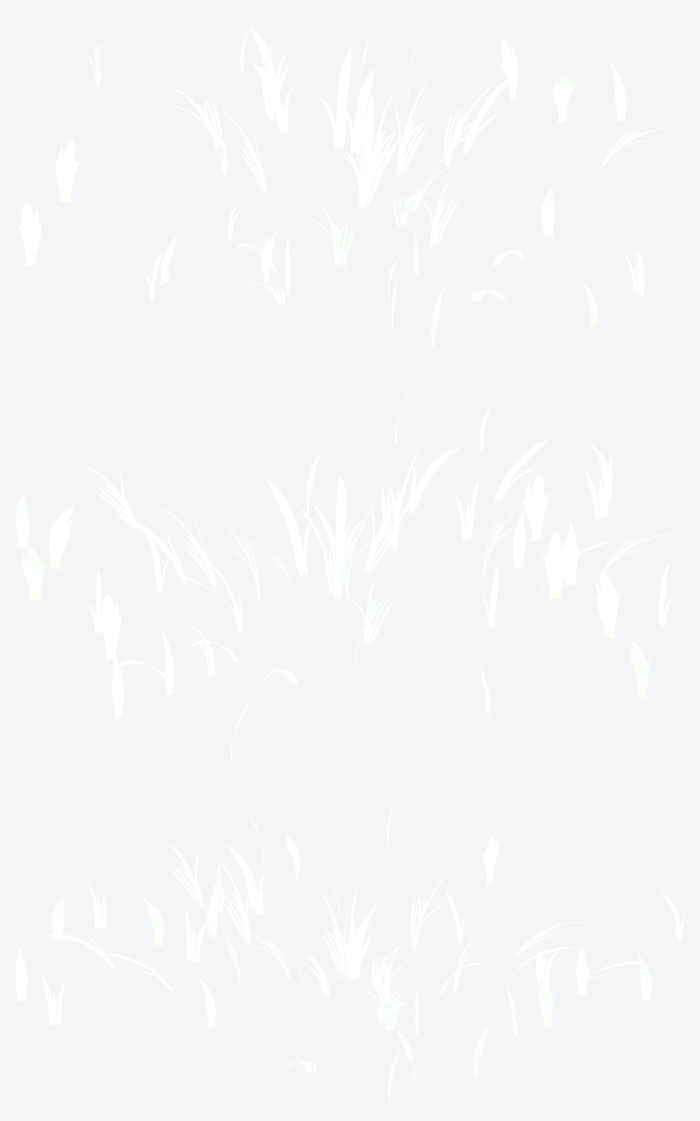
3 views of the same model, one above another, from view 1: azimuth 30°, elevation 25°; view 2: azimuth 150°, elevation 25°; view 3: azimuth 270°, elevation 25° (orthographic). The views are drawn at different scales.
Visible parts, largest first — view 1: SM_SwampSedge_04_LOD0; view 2: SM_SwampSedge_04_LOD0; view 3: SM_SwampSedge_04_LOD0.
Boxes of the visible parts, x1,y1,x2,y2 form: SM_SwampSedge_04_LOD0: (16, 18, 677, 349); SM_SwampSedge_04_LOD0: (15, 385, 676, 759); SM_SwampSedge_04_LOD0: (15, 794, 685, 1104).
Size of the model in its own units: 1.6 by 0.2594 by 1.7.
Materials: 1 (1 with a texture image).
